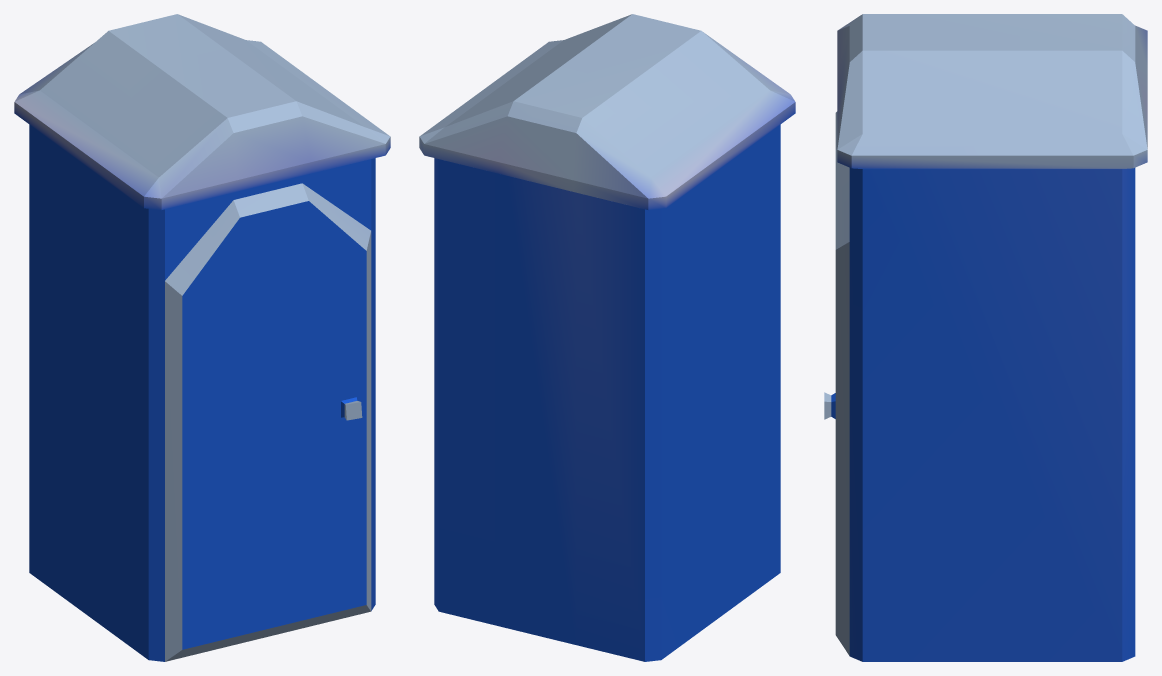
File: BanhQuimic.fbx
The picture shows the model from 3 angles, left to right: view 1: azimuth 30°, elevation 25°; view 2: azimuth 150°, elevation 25°; view 3: azimuth 270°, elevation 25°; orthographic projection. The views are drawn at different scales.
Visible parts, largest first — view 1: LOD_0; view 2: LOD_0; view 3: LOD_0.
Boxes of the visible parts, x1=… form: LOD_0: x1=14, y1=14, x2=390, y2=661; LOD_0: x1=419, y1=14, x2=795, y2=661; LOD_0: x1=824, y1=14, x2=1147, y2=661.
Size of what is drawn, in the model's own units: 98.23 by 199 by 102.
